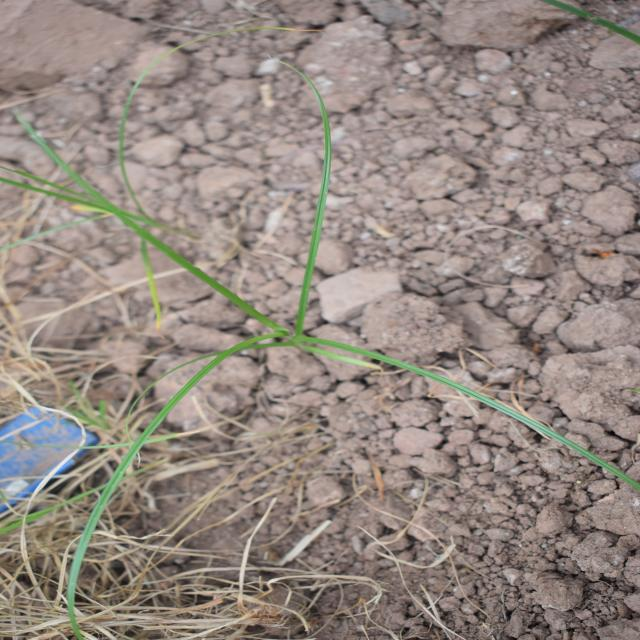sedge: (91, 80, 554, 525)
